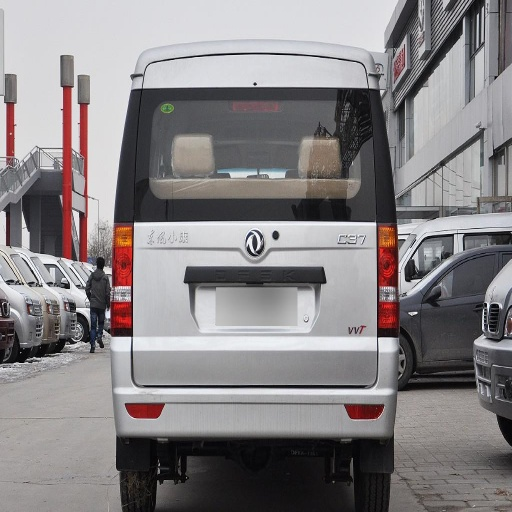back_bumper: (118, 335, 410, 439)
back_right_light: (380, 226, 399, 335)
tailgate: (183, 184, 350, 328)
trunk: (115, 198, 382, 394)
